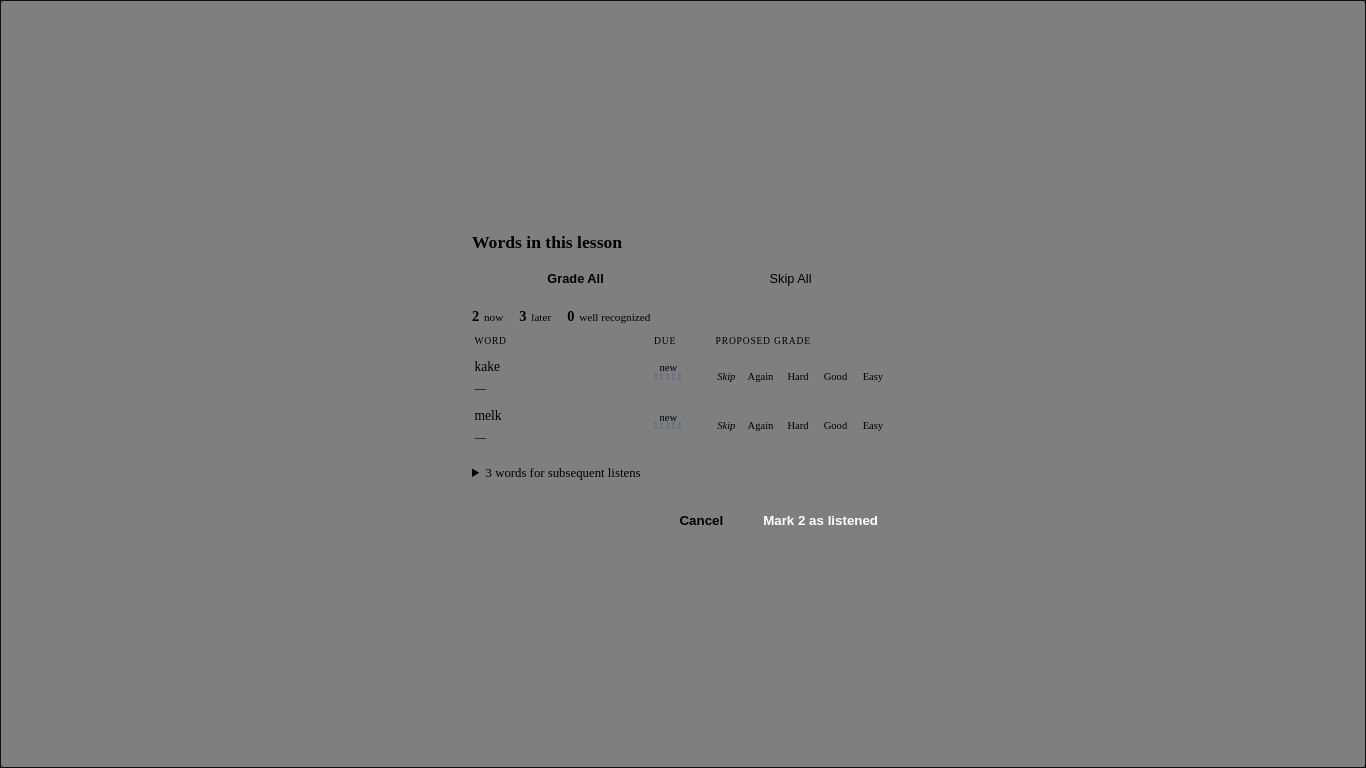
Scenario: ListenPreviewModal — over-budget creation tail › the footer count drops when a create is skipped, because nothing replaces it
The width and height of the screenshot is (1366, 768).
Expected: the button "Mark 2 as listened" is shown, [747, 505, 894, 536]
Click the button "Skip" in the row of "kake" at (726, 376), box [716, 357, 737, 395]
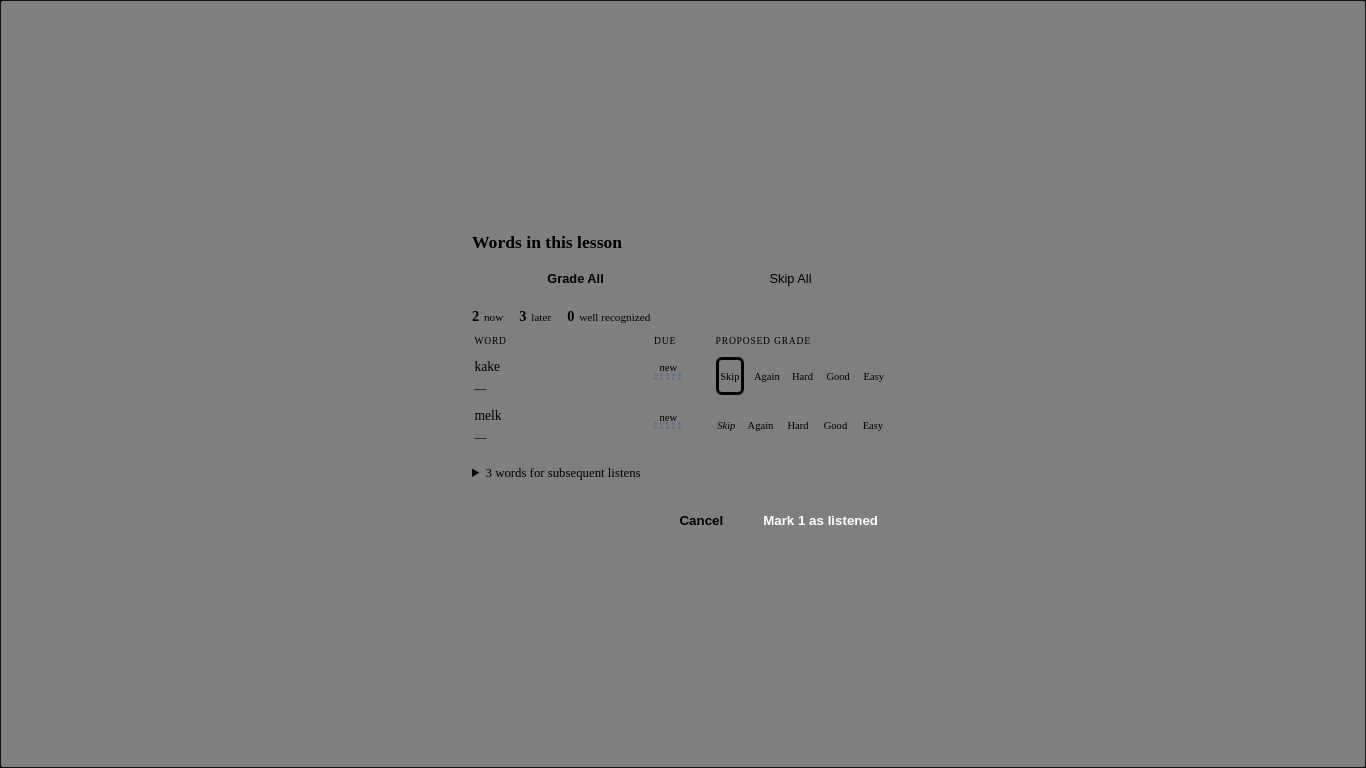
Now the button "Mark 1 as listened" is shown, box [747, 505, 894, 536]
